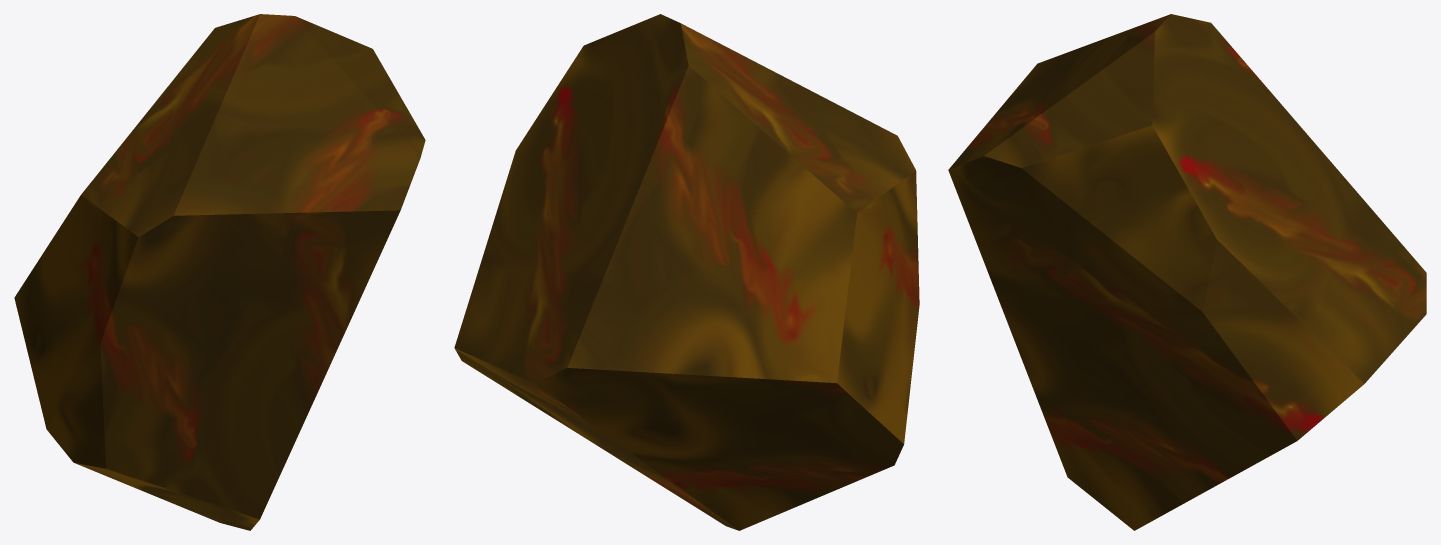
Rendered from Meteorite_Bullet.fbx.
3 views of the same model, side by side, from view 1: azimuth 30°, elevation 25°; view 2: azimuth 150°, elevation 25°; view 3: azimuth 270°, elevation 25° (orthographic). The views are drawn at different scales.
Visible parts, largest first — view 1: SM_4E_IceShards_01.mo; view 2: SM_4E_IceShards_01.mo; view 3: SM_4E_IceShards_01.mo.
Boxes of the visible parts, x1,y1,x2,y2 form: SM_4E_IceShards_01.mo: (14,14,425,530); SM_4E_IceShards_01.mo: (454,14,919,530); SM_4E_IceShards_01.mo: (948,14,1426,530).
Size of the model in its own units: 0.1736 by 0.2226 by 0.1818.
